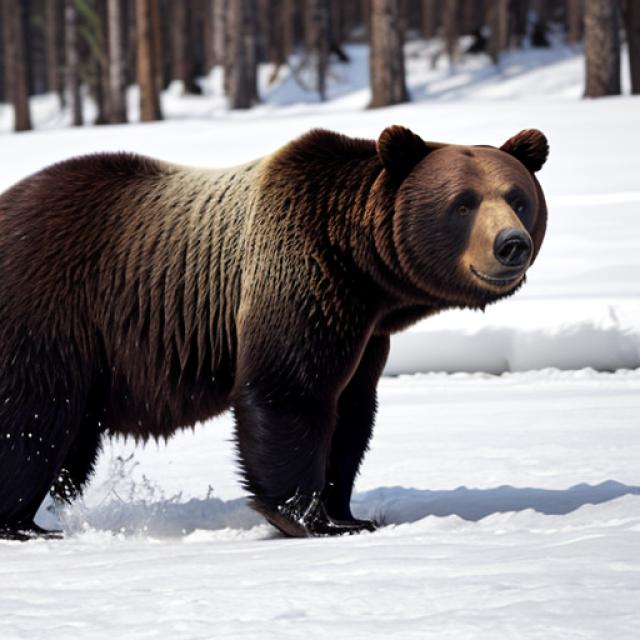bear: (351, 121, 565, 309)
